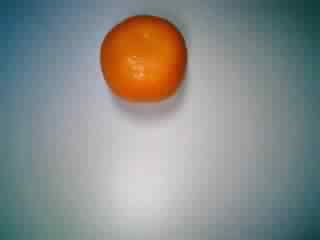orange: (97, 10, 193, 106)
